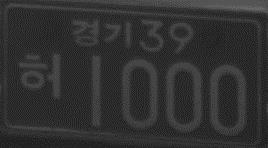0: (118, 56, 160, 131), (163, 61, 205, 134), (207, 63, 248, 136)
1: (84, 53, 105, 129)
3: (140, 18, 166, 54)
9: (168, 21, 194, 55)
경기_O: (70, 17, 132, 48)
허: (18, 52, 64, 102)
